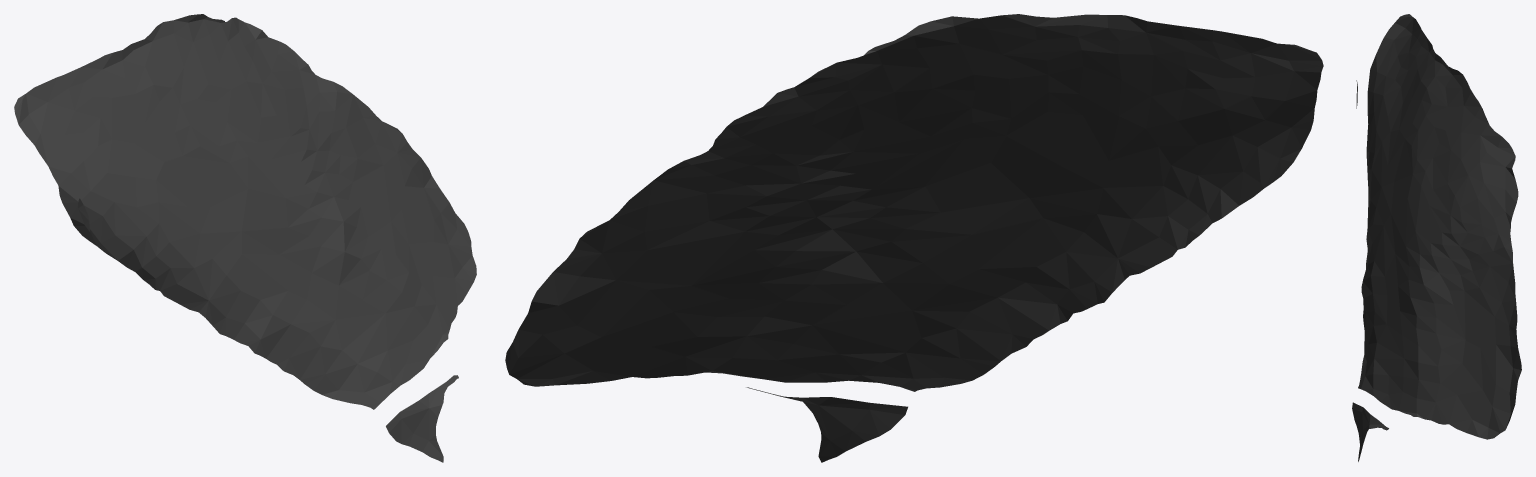
The model's file is M_triceps_brach_long_M_triceps_brach_long.glb.
The picture shows the model from 3 angles, left to right: view 1: azimuth 30°, elevation 25°; view 2: azimuth 150°, elevation 25°; view 3: azimuth 270°, elevation 25°; orthographic projection. The views are drawn at different scales.
Visible parts, largest first — view 1: M_triceps_brach_long_M_triceps_brach_long; view 2: M_triceps_brach_long_M_triceps_brach_long; view 3: M_triceps_brach_long_M_triceps_brach_long.
Boxes of the visible parts, x1,y1,x2,y2 form: M_triceps_brach_long_M_triceps_brach_long: (14,14,476,462); M_triceps_brach_long_M_triceps_brach_long: (505,14,1323,462); M_triceps_brach_long_M_triceps_brach_long: (1352,14,1521,461).
Bounding box in the file's own units: 0.0324 × 0.0257 × 0.0125.
1 material, 1 textured.
